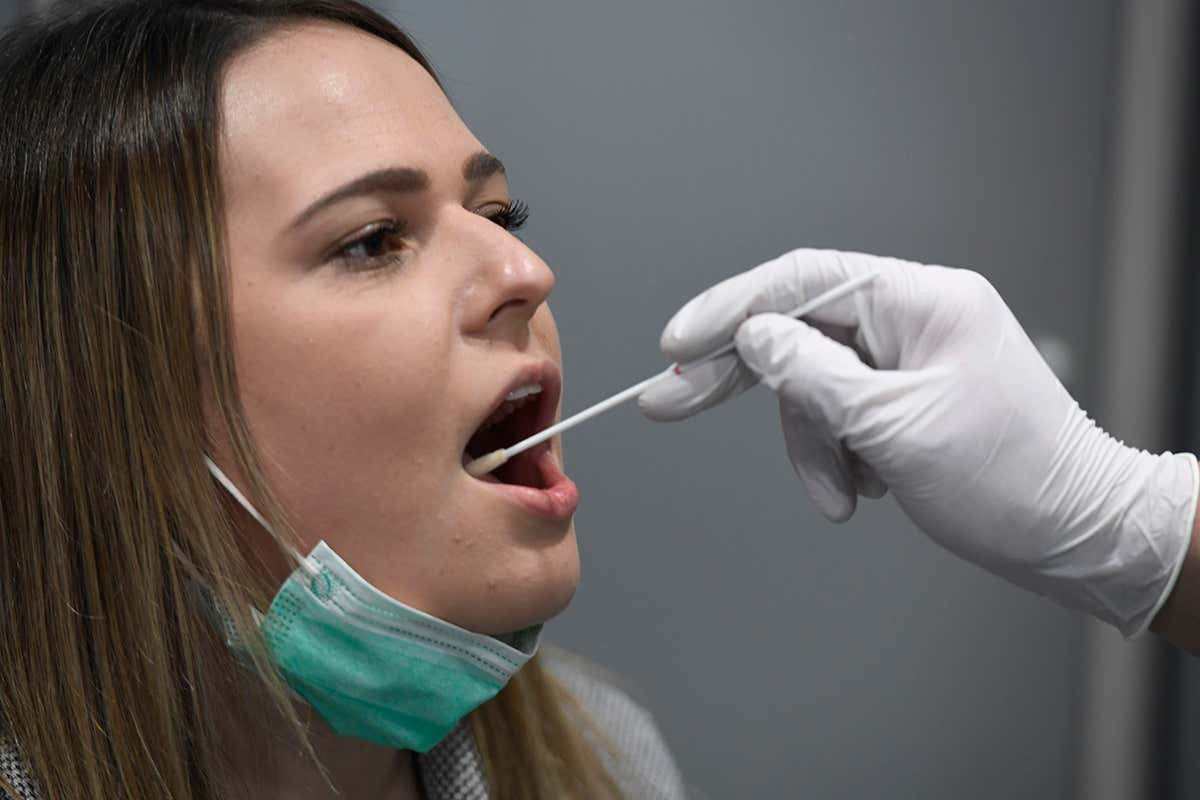Gloves: (638, 237, 1195, 647)
mask_weared_incorrect: (246, 144, 583, 764)
